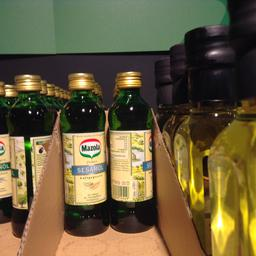oil: (60, 72, 108, 237), (106, 70, 153, 231), (6, 74, 52, 236)
